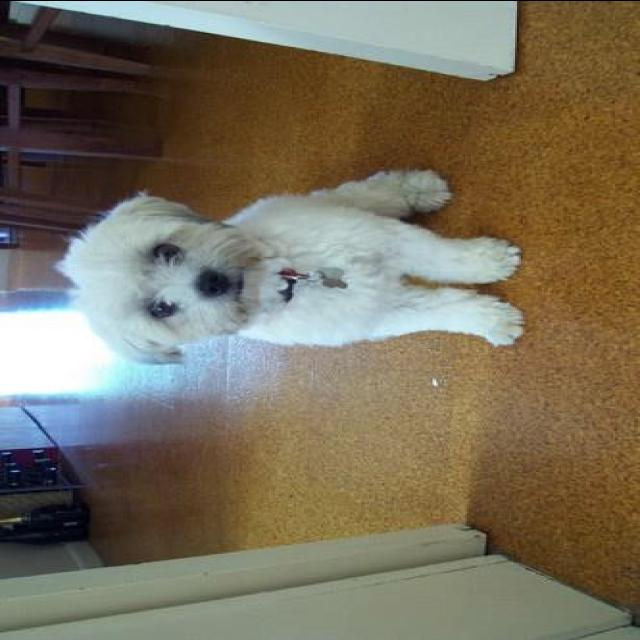maltese_dog: (54, 165, 526, 365)
